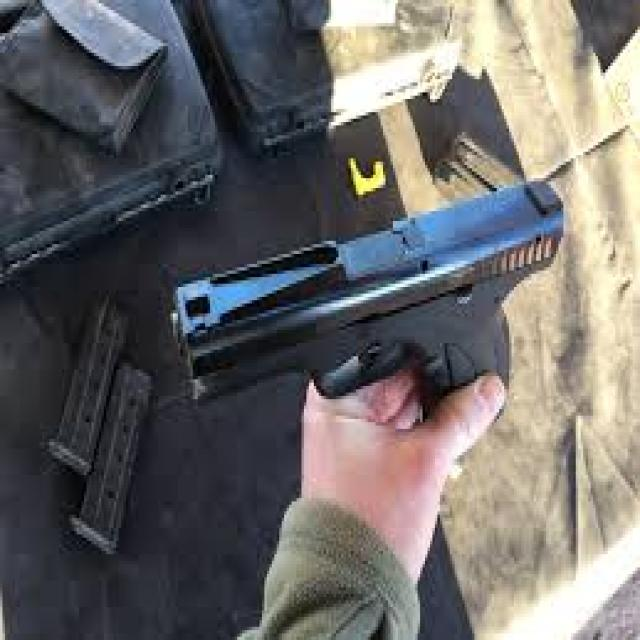Gun: (171, 170, 587, 435)
